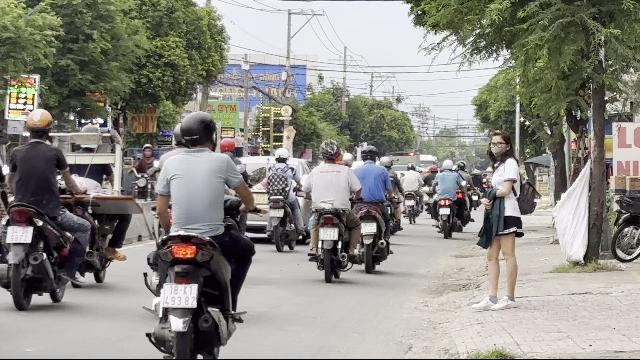helmet: (176, 110, 218, 150), (22, 108, 54, 140), (317, 138, 338, 162), (359, 145, 379, 163), (219, 136, 237, 156), (274, 147, 290, 163)
licenseplate: (162, 282, 198, 308), (6, 226, 32, 242), (320, 227, 338, 241), (360, 222, 376, 233), (269, 209, 283, 217)
motorcyclist: (138, 108, 258, 356), (0, 107, 88, 310), (302, 139, 361, 282), (350, 143, 398, 271), (262, 146, 304, 251)
